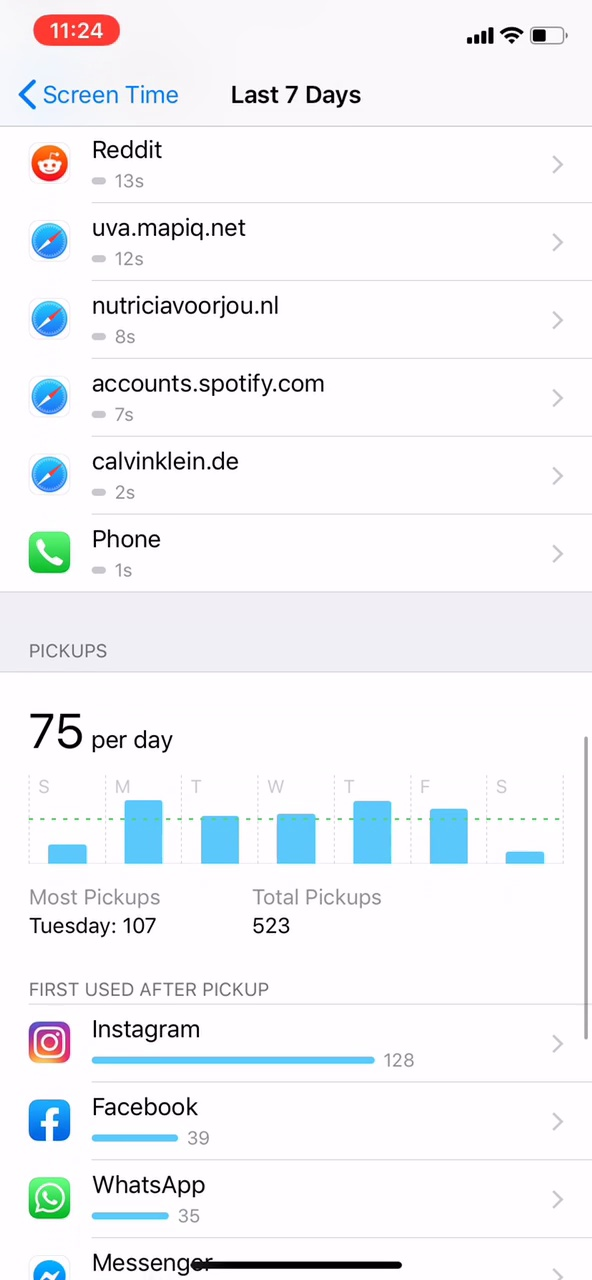pick_app: (22, 1010, 443, 1075), (20, 1166, 250, 1235), (22, 1085, 247, 1153)
pick_over: (18, 878, 425, 952)
week: (215, 77, 372, 114)
